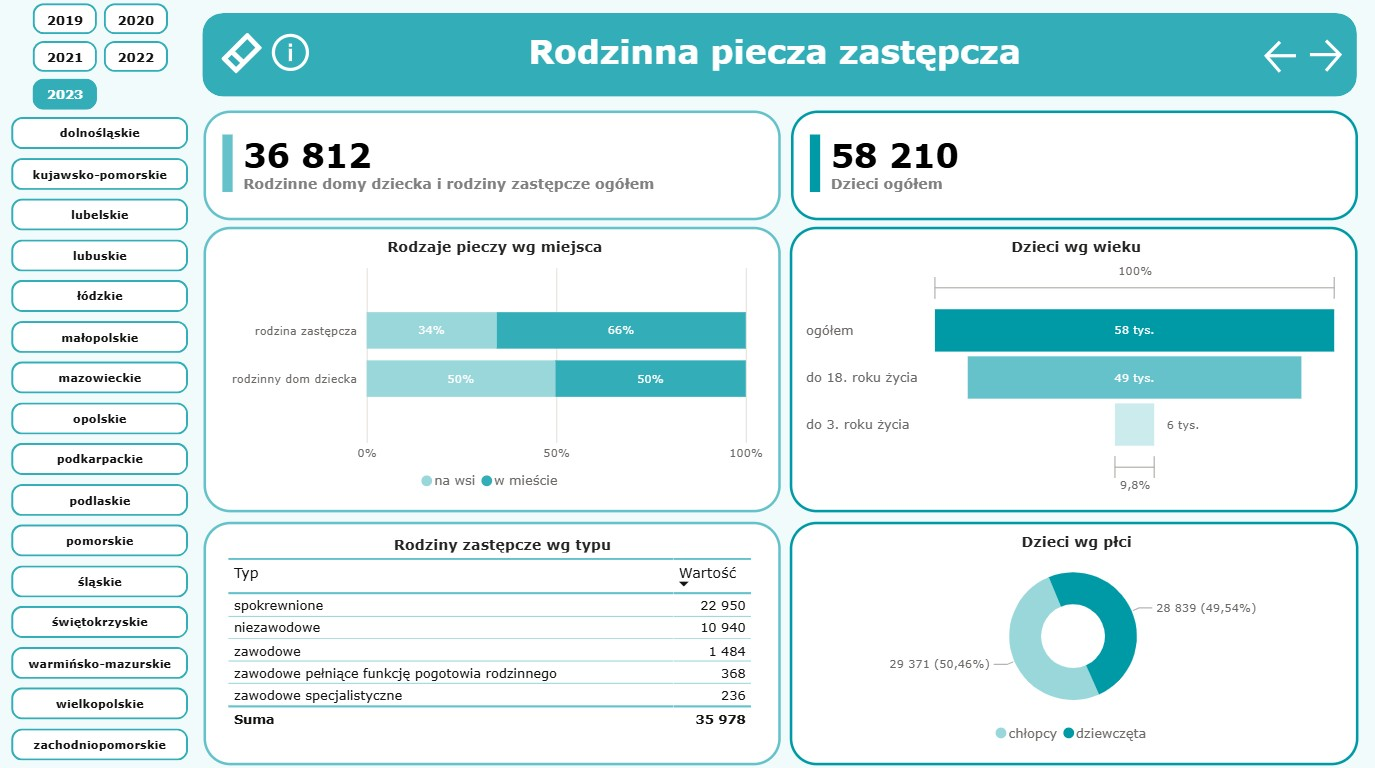

Layout of this report page (visuals, bound fields, positions):
{"tool":"powerbi","page":{"name":"Rodzinna piecza zastępcza","canvas":[1280,720],"ordinal":2},"visuals":[{"type":"advancedSlicerVisual","fields":{"Values":["Rok.Rok"]},"box":[0,0,176.2,110],"z":0},{"type":"advancedSlicerVisual","fields":{"Values":["Wojewodztwa.Nazwa"]},"box":[0,106.6,175.5,613.4],"z":1000},{"type":"shape","box":[183.6,13.4,1077,78],"z":1500,"group":"g1"},{"type":"group","id":"g1","title":"Grupa 1","box":[183.6,13.4,1077,78],"z":2000},{"type":"textbox","title":"Rodzinna piecza zastępcza","box":[234.1,30,967.2,42.1],"z":2000,"group":"g1"},{"type":"funnel","title":"Dzieci wg wieku","fields":{"Category":["DzieciWiek.Wiek"],"Y":["Sum(RodzinnaPieczaDzieciWiek.Wartość)"]},"box":[731.4,213.8,529.6,266.8],"z":3000},{"type":"donutChart","title":"Dzieci wg płci","fields":{"Category":["RodzinnaPieczaDzieciPłeć.Atrybut"],"Y":["Sum(RodzinnaPieczaDzieciPłeć.Wartość)"]},"box":[731,488,530,227],"z":4000},{"type":"hundredPercentStackedBarChart","title":"Rodzaje pieczy wg miejsca","fields":{"Category":["RodzajRodzPieczy.rodzaj"],"Y":["Sum(RodzinnaPiecza.Wartość)"],"Series":["MiejscePieczy.Miejsce"]},"box":[183.9,213.8,538.6,266.8],"z":5000},{"type":"tableEx","title":"Rodziny zastępcze wg typu","fields":{"Values":["TypRodzZastepczej.typ","Sum(RodzinyZastTyp.Wartość)"]},"box":[184,488,538,227],"z":6000},{"type":"multiRowCard","fields":{"Values":["Sum(RodzinnaPiecza.Wartość)"]},"box":[183.6,104.5,538.2,102.7],"z":7000},{"type":"multiRowCard","fields":{"Values":["Sum(RodzinnaPieczaDzieciPłeć.Wartość)"]},"box":[731.8,104.5,529.1,102.7],"z":8000},{"type":"actionButton","box":[242.2,27.8,46.7,45.6],"z":9000},{"type":"actionButton","box":[196.7,27.8,45.6,47.8],"z":10000},{"type":"actionButton","box":[1169.2,34.6,41,39.7],"z":11000},{"type":"actionButton","box":[1210,34.2,41.7,40],"z":12000}]}

Visuals, with their boxes in screenshot pixels (x1, y1, x2, y2), scaled from the page's 1280x720 canvas onto the 1375x768 screenshot:
advancedSlicerVisual - Rok.Rok: {"left": 0, "top": 0, "right": 189, "bottom": 117}
advancedSlicerVisual - Wojewodztwa.Nazwa: {"left": 0, "top": 114, "right": 189, "bottom": 767}
shape: {"left": 197, "top": 14, "right": 1354, "bottom": 97}
"Grupa 1" group: {"left": 197, "top": 14, "right": 1354, "bottom": 97}
"Rodzinna piecza zastępcza" textbox: {"left": 251, "top": 32, "right": 1290, "bottom": 77}
"Dzieci wg wieku" funnel: {"left": 786, "top": 228, "right": 1355, "bottom": 513}
"Dzieci wg płci" donutChart: {"left": 785, "top": 521, "right": 1355, "bottom": 763}
"Rodzaje pieczy wg miejsca" hundredPercentStackedBarChart: {"left": 198, "top": 228, "right": 776, "bottom": 513}
"Rodziny zastępcze wg typu" tableEx: {"left": 198, "top": 521, "right": 776, "bottom": 763}
multiRowCard - Sum(RodzinnaPiecza.Wartość): {"left": 197, "top": 111, "right": 775, "bottom": 221}
multiRowCard - Sum(RodzinnaPieczaDzieciPłeć.Wartość): {"left": 786, "top": 111, "right": 1354, "bottom": 221}
actionButton: {"left": 260, "top": 30, "right": 310, "bottom": 78}
actionButton: {"left": 211, "top": 30, "right": 260, "bottom": 81}
actionButton: {"left": 1256, "top": 37, "right": 1300, "bottom": 79}
actionButton: {"left": 1300, "top": 36, "right": 1345, "bottom": 79}
